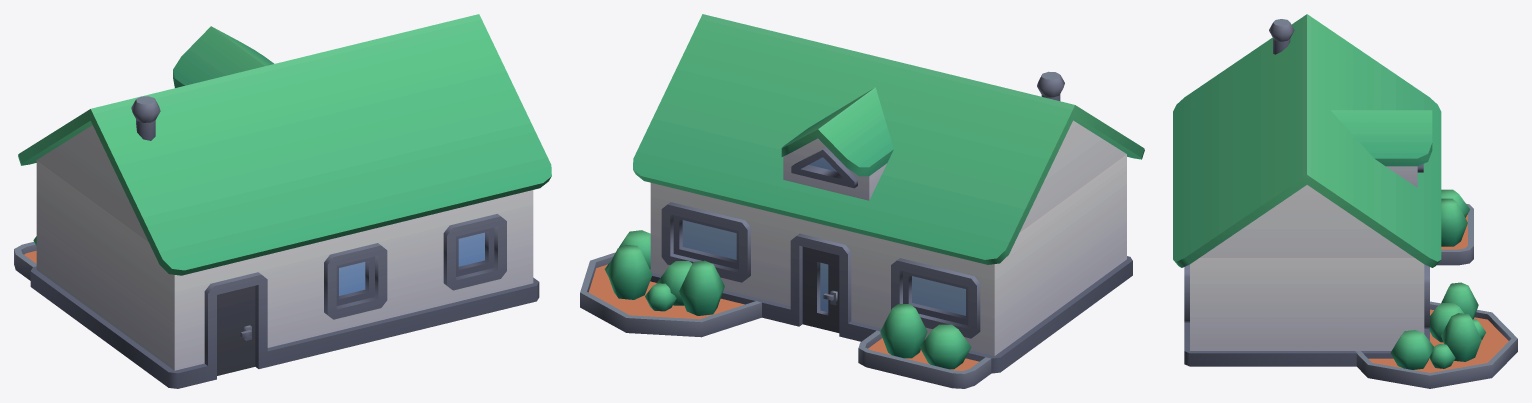
Rendered from k-city-kit-suburban-building-type-g.glb.
3 views of the same model, side by side, from view 1: azimuth 30°, elevation 25°; view 2: azimuth 150°, elevation 25°; view 3: azimuth 270°, elevation 25° (orthographic). The views are drawn at different scales.
Parts seen in each view (by area): view 1: building-type-g; view 2: building-type-g; view 3: building-type-g.
Boxes of the visible parts, x1,y1,x2,y2 form: building-type-g: [14, 14, 551, 388]; building-type-g: [580, 14, 1144, 388]; building-type-g: [1173, 14, 1517, 388].
Bounding box in the file's own units: 1.45 × 0.7683 × 1.18.
1 material, 1 textured.
